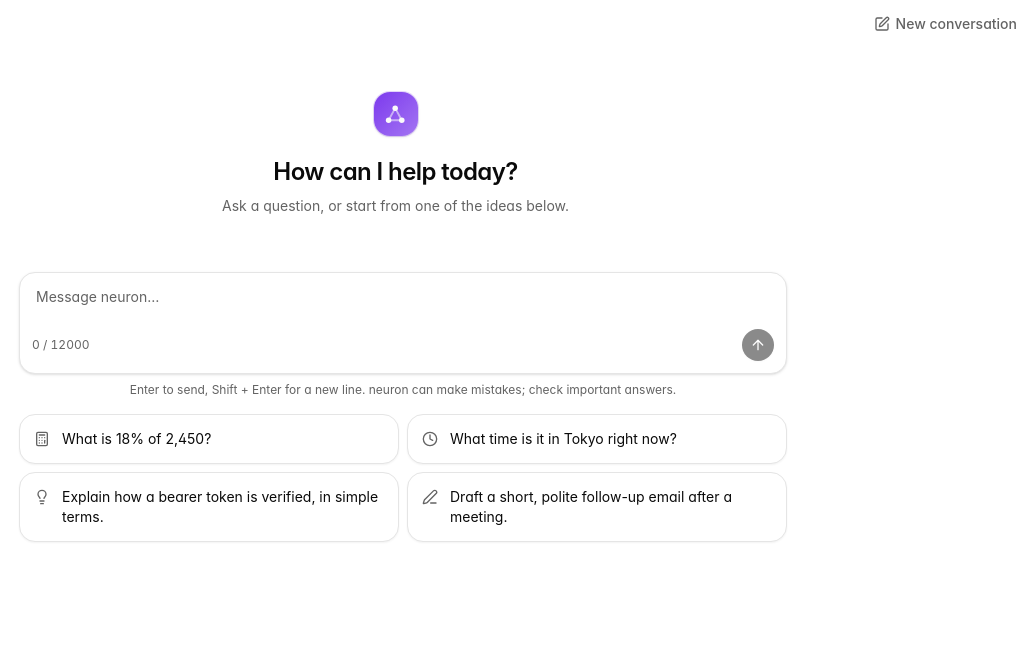
Test: deciding an approval › shows the card from the server's payload, and approving streams the continuation
Click the text box labelled "Message" at (403, 301), box [20,273,786,329]
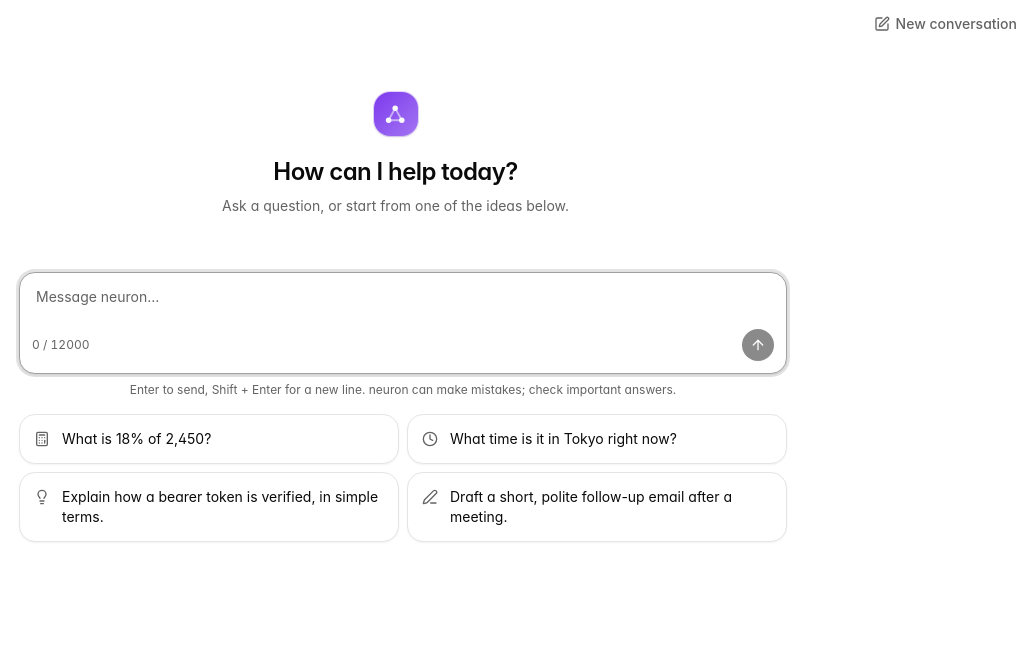
Type keys "remember I like tea"
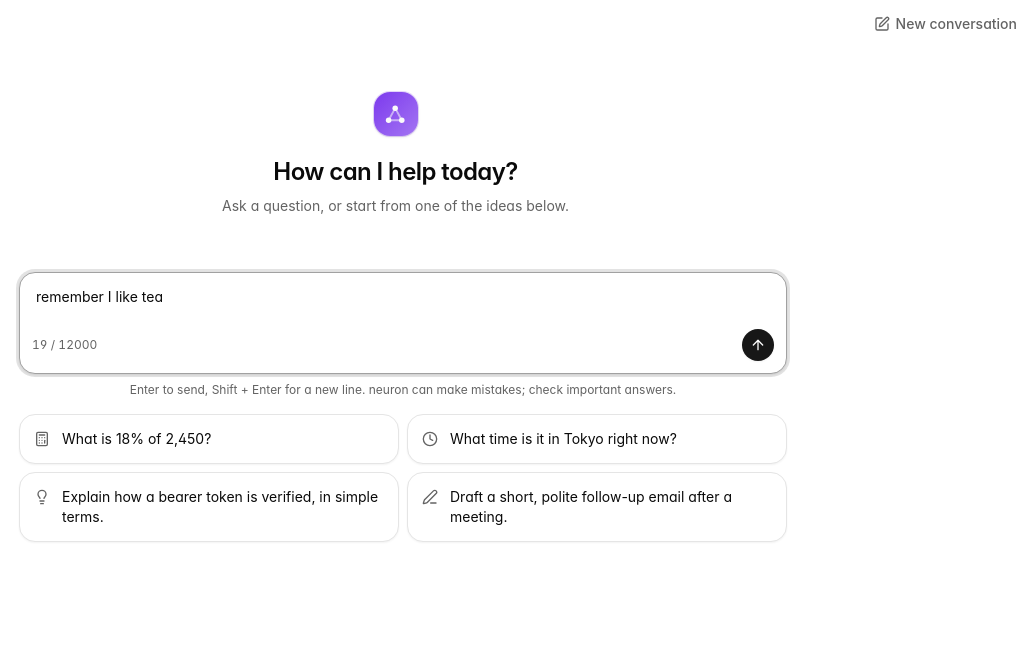
Click the button named "Send" at (758, 345), box [742,329,774,361]
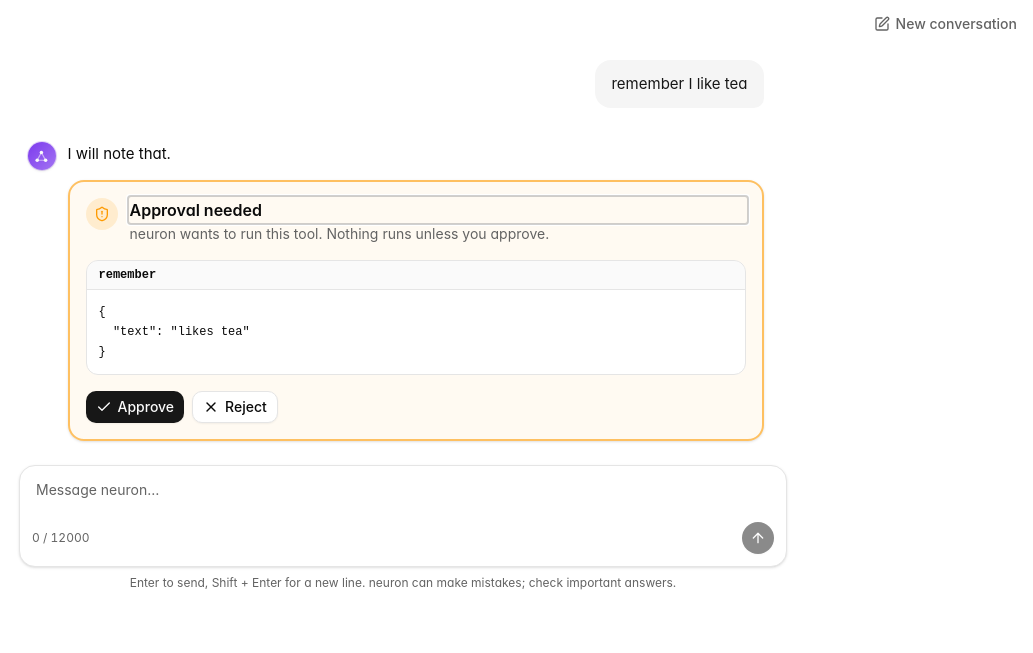
expect the element named "Approval required" is shown: met, box [68,180,764,441]
expect the element named "Approval required" shows "remember": met, box [98,268,156,282]
expect the element named "Approval required" shows "\"text\": \"likes tea\"": met, box [98,305,250,359]
Click the button "Approve" at (135, 407), box [86,391,184,423]
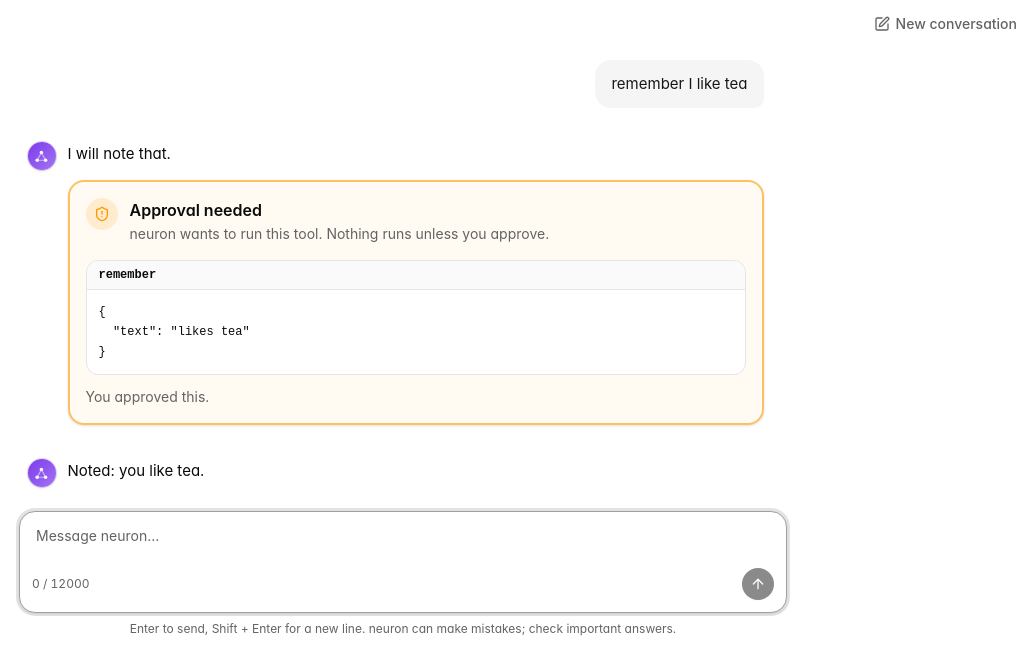
expect the text "Noted: you like tea." is shown: met, box [68,461,204,480]
expect the message reads "You approved this.": met, box [86,388,209,405]
